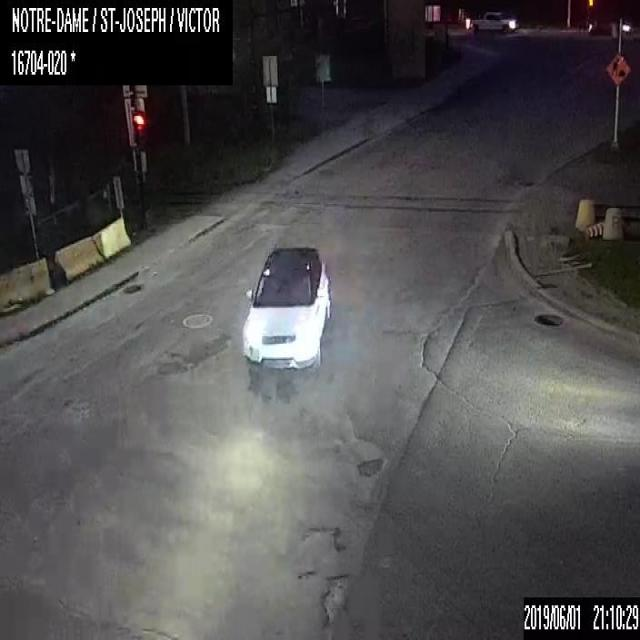construction: (604, 51, 631, 85), (584, 221, 603, 236)
vehicle: (242, 244, 331, 376), (588, 13, 634, 36), (471, 11, 516, 32)
